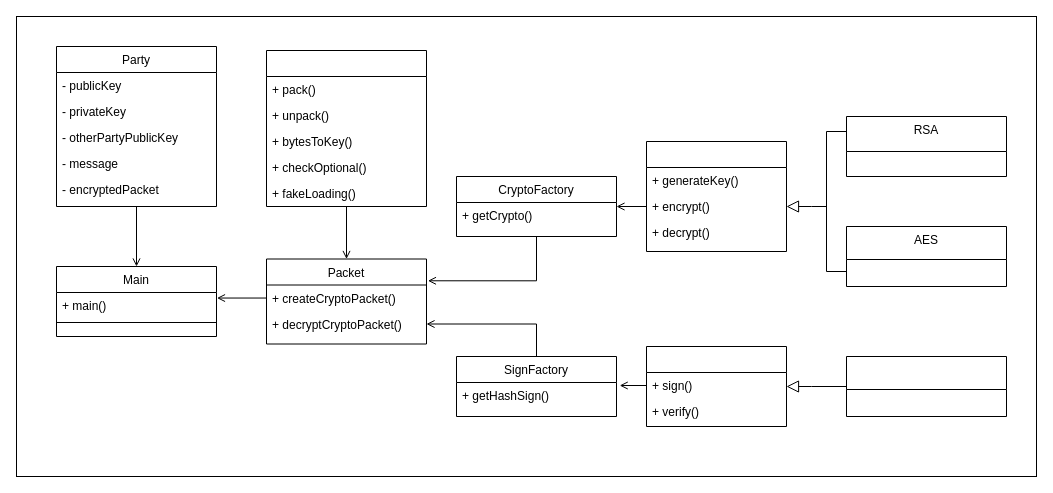
Image size: 1053x493. Some labels were removed from this diagram. Each missing label, with the box of its shape:
Cryptography (Interface): (646, 140, 786, 252)
CryptoUtils: (266, 50, 426, 206)
SHA_RSA: (846, 356, 1006, 416)
Sign (Interface): (646, 346, 786, 426)
